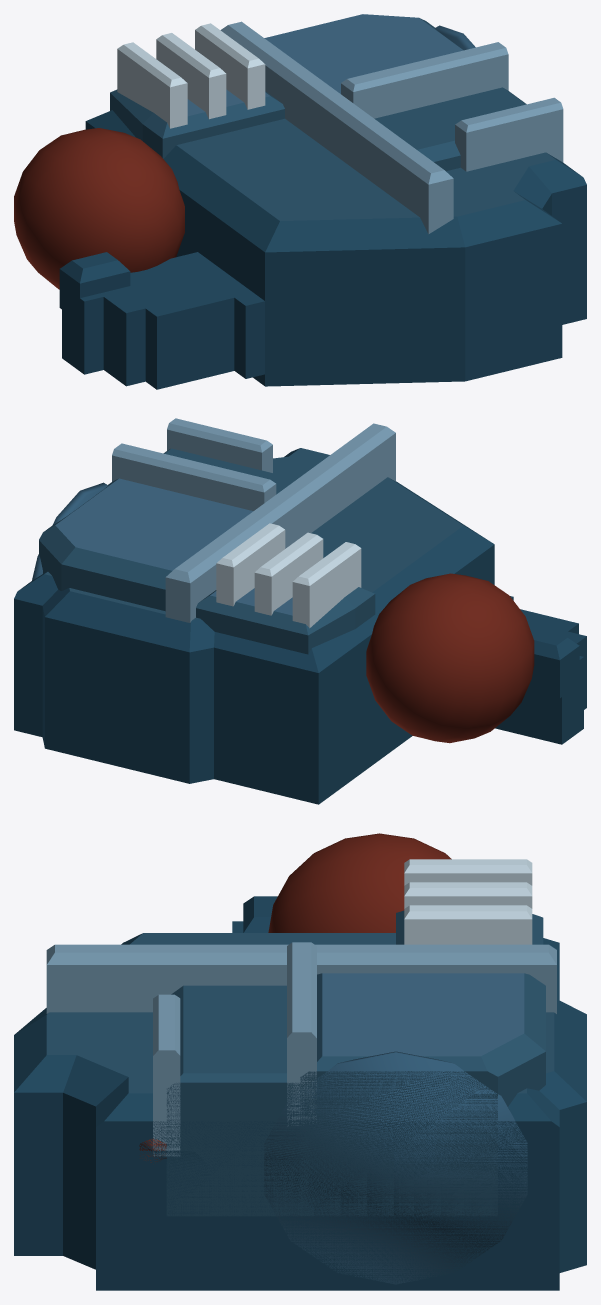
Rendered from newshv-89.glb.
3 views of the same model, one above another, from view 1: azimuth 30°, elevation 25°; view 2: azimuth 150°, elevation 25°; view 3: azimuth 270°, elevation 25° (orthographic). The views are drawn at different scales.
Parts seen in each view (by area): view 1: newshv-89; view 2: newshv-89; view 3: newshv-89.
Boxes of the visible parts, x1,y1,x2,y2 form: newshv-89: (14, 14, 586, 389); newshv-89: (14, 418, 586, 804); newshv-89: (14, 833, 586, 1290).
Size of the model in its own units: 1.92 by 0.88 by 1.75.
